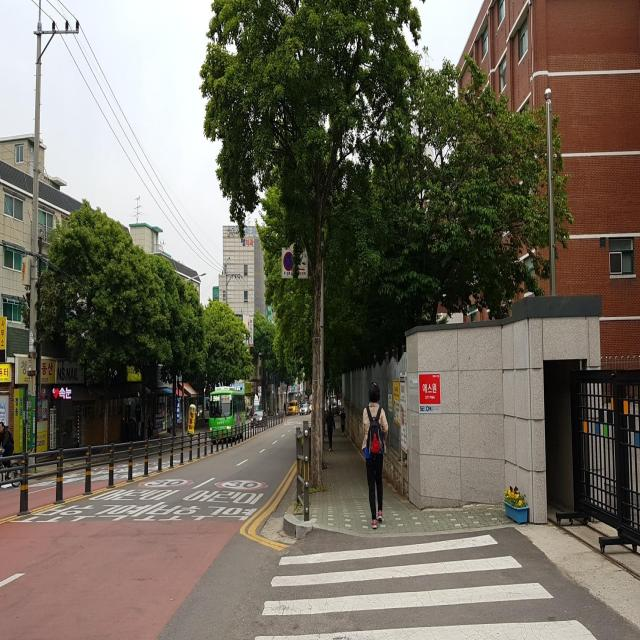횡단보도: (252, 532, 600, 640)
